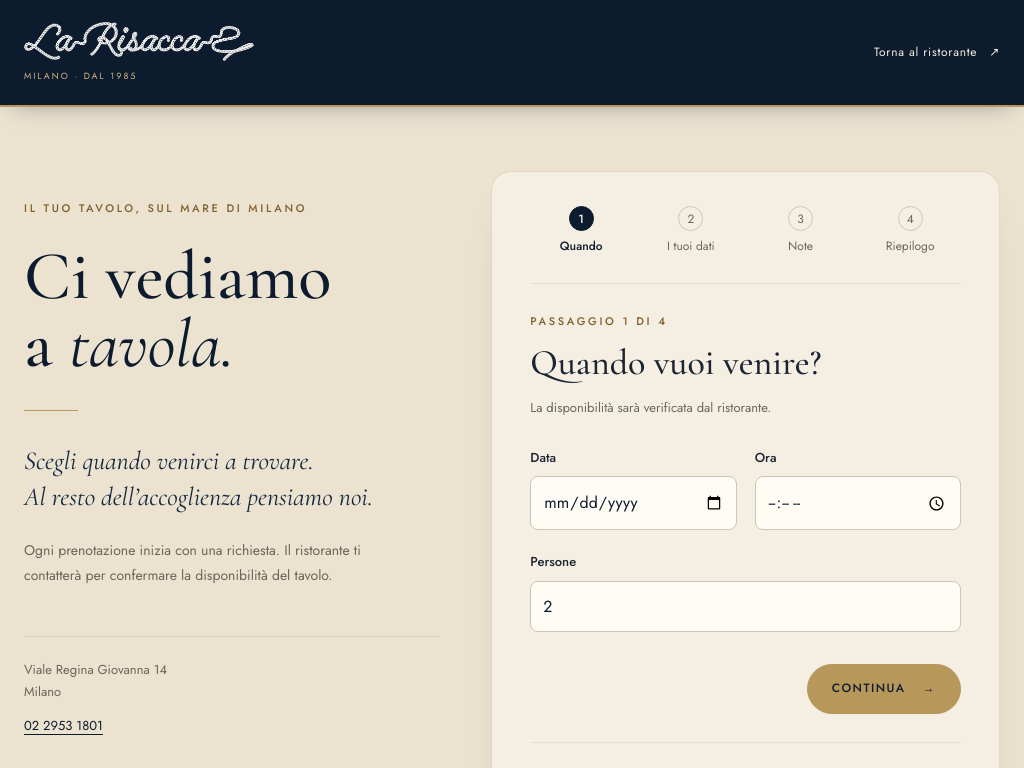
it: percorso del form › conserva la scelta tornando indietro
Type "2099-10-12" into the date field labelled "Data" at [633, 503], box [530, 476, 737, 530]
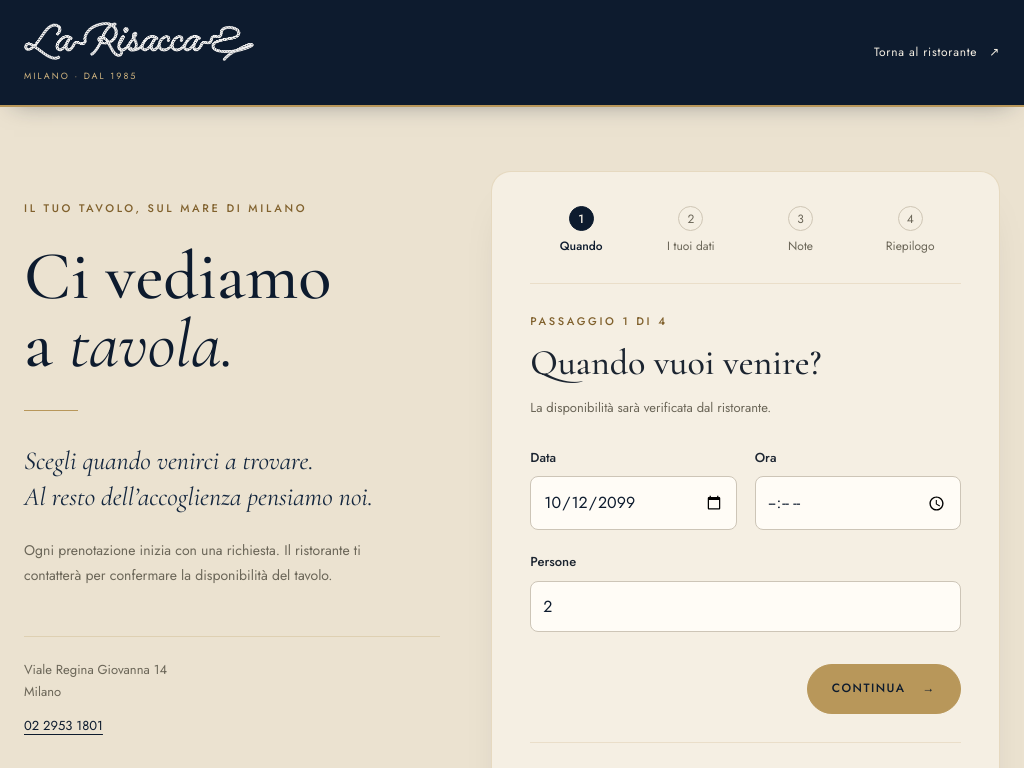
Type "20:30" into the time field labelled "Ora" at [858, 503], box [755, 476, 961, 530]
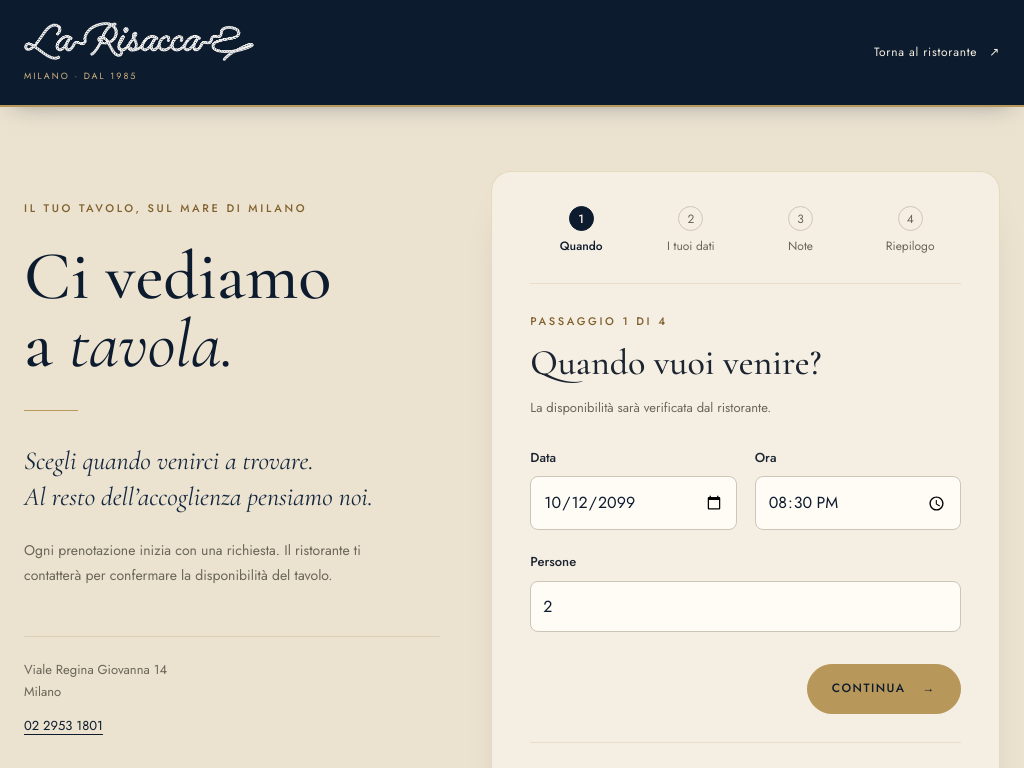
Replace the text in the number field labelled "Persone" with "4" at [746, 607], box [530, 581, 961, 632]
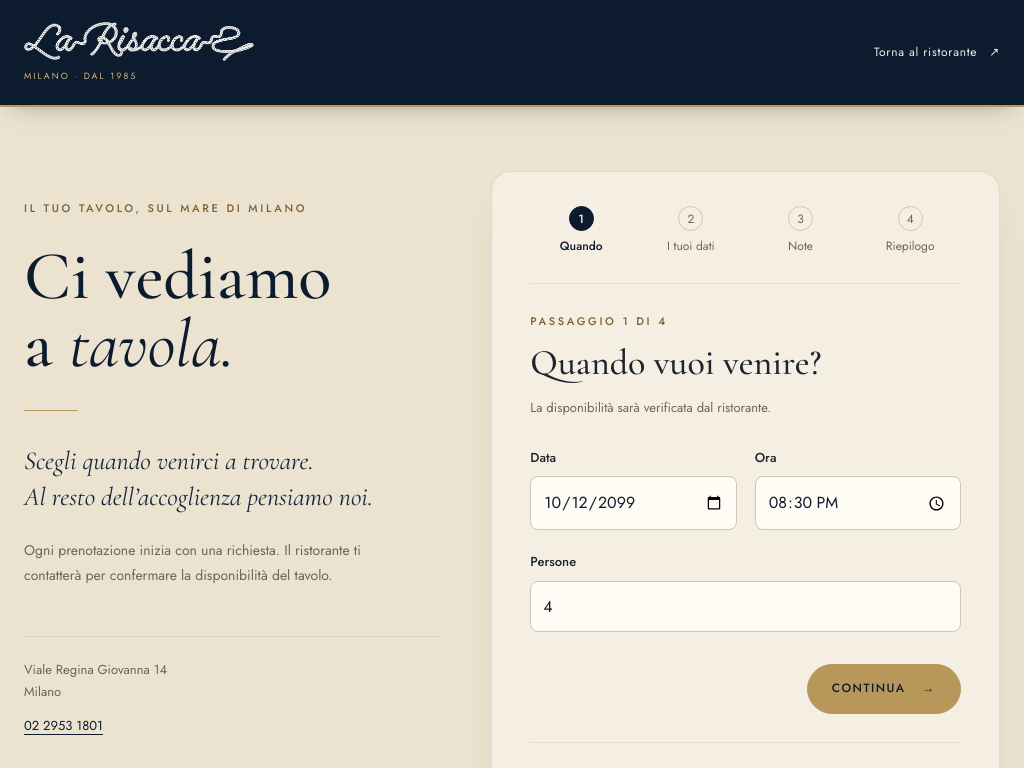
Click the button "Continua →" at [884, 689], box [807, 664, 961, 714]
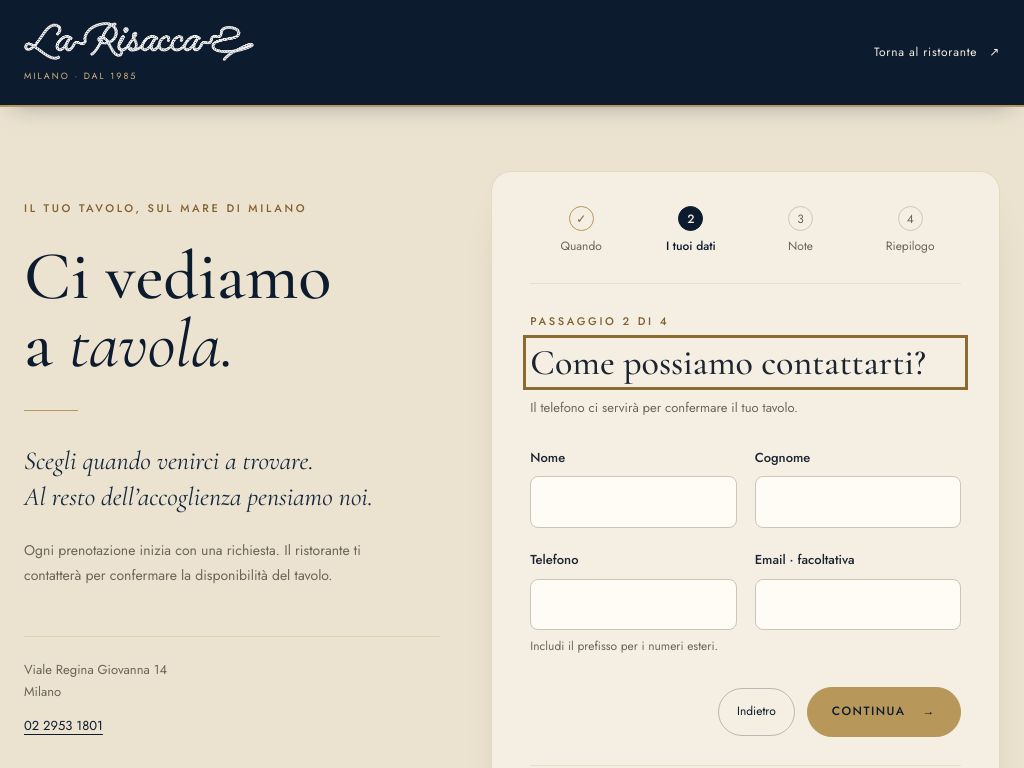
Result: the field labelled "Nome" is shown at [530, 476, 737, 528]
Click the button "Indietro" at [756, 712], box [718, 688, 795, 736]
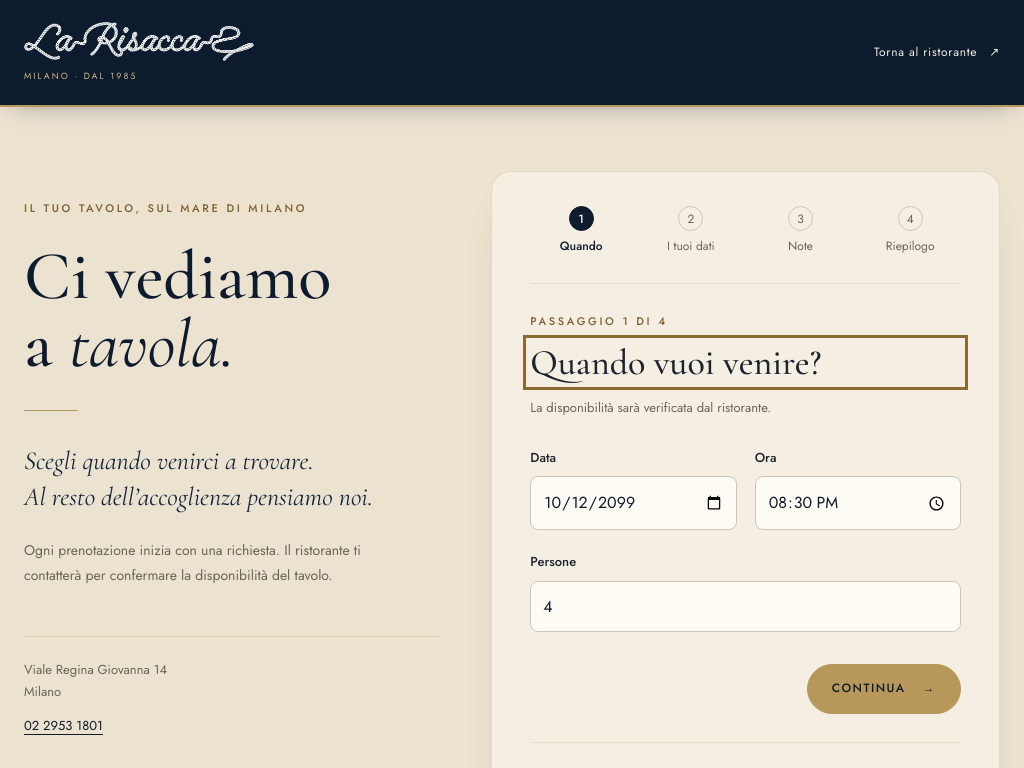
Result: the date field labelled "Data" holds "2099-10-12" at [530, 476, 737, 530]
Result: the number field labelled "Persone" holds "4" at [530, 581, 961, 632]
